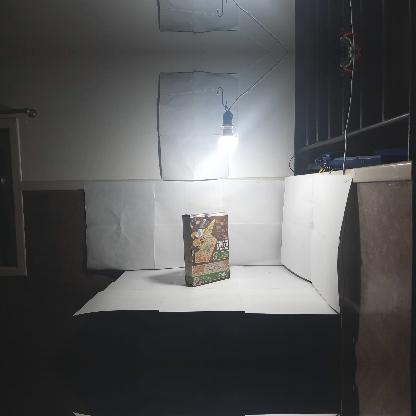Koko-Krunch: (182, 212, 230, 286)
